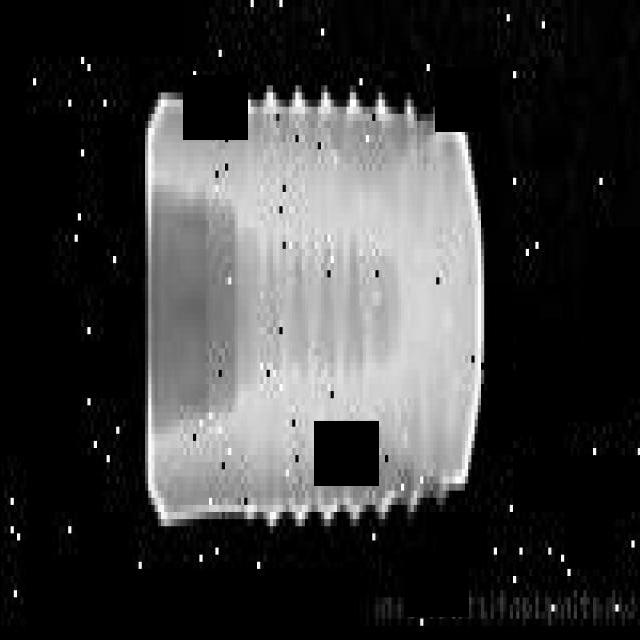Titan Implant Implant: (144, 92, 490, 533)
